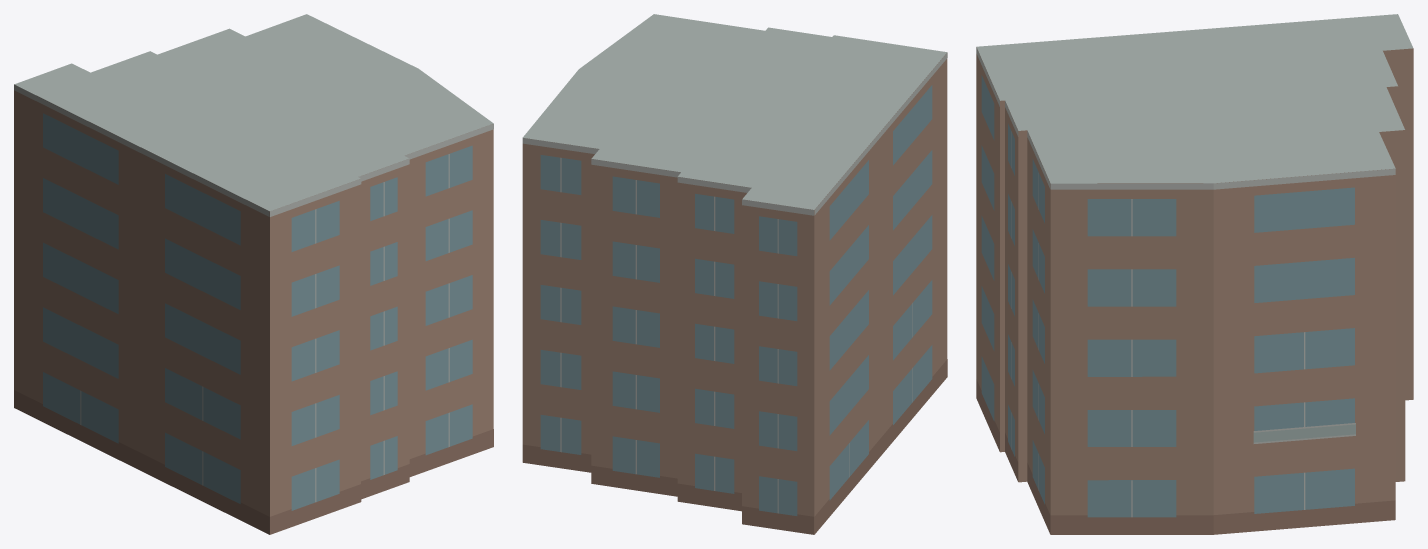
Rendered from survey-upis-32906376.glb.
The picture shows the model from 3 angles, left to right: view 1: azimuth 30°, elevation 25°; view 2: azimuth 150°, elevation 25°; view 3: azimuth 270°, elevation 25°; orthographic projection. The views are drawn at different scales.
Visible parts, largest first — view 1: survey-upis-32906376.tmp; view 2: survey-upis-32906376.tmp; view 3: survey-upis-32906376.tmp.
Boxes of the visible parts, x1,y1,x2,y2 form: survey-upis-32906376.tmp: (14, 14, 493, 534); survey-upis-32906376.tmp: (522, 14, 947, 534); survey-upis-32906376.tmp: (976, 14, 1413, 534).
Size of the model in its own units: 14.03 by 13.55 by 15.29.
